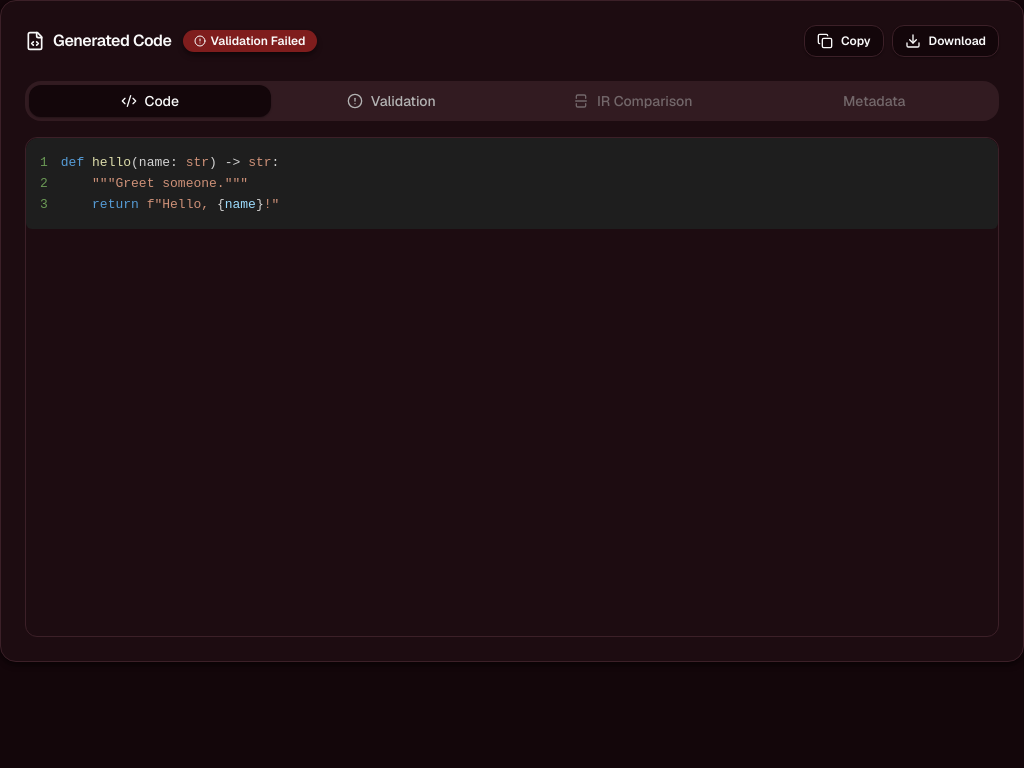
Scenario: CodePreview › displays differences in validation tab
Click the tab "Validation": (391, 101) [270,85,512,117]
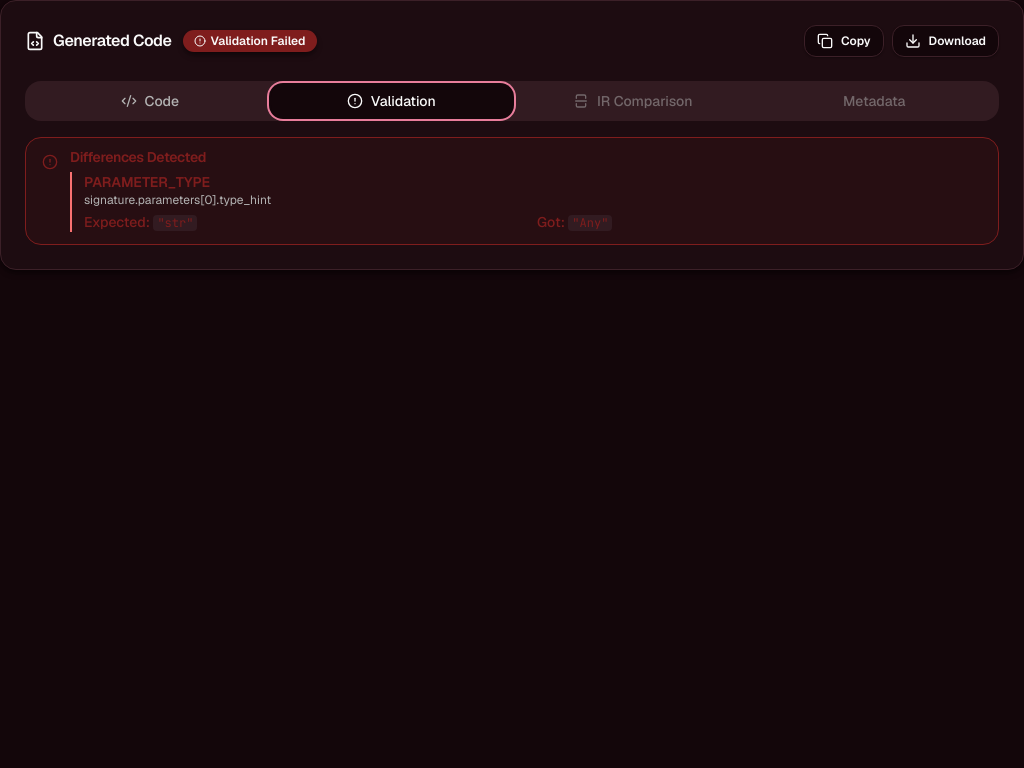
Now the heading "Differences Detected" is shown, box [70,148,206,166]
Now the text "PARAMETER_TYPE" is shown, box [84,173,210,191]
Now the text "signature.parameters[0].type_hint" is shown, box [84,192,271,208]
